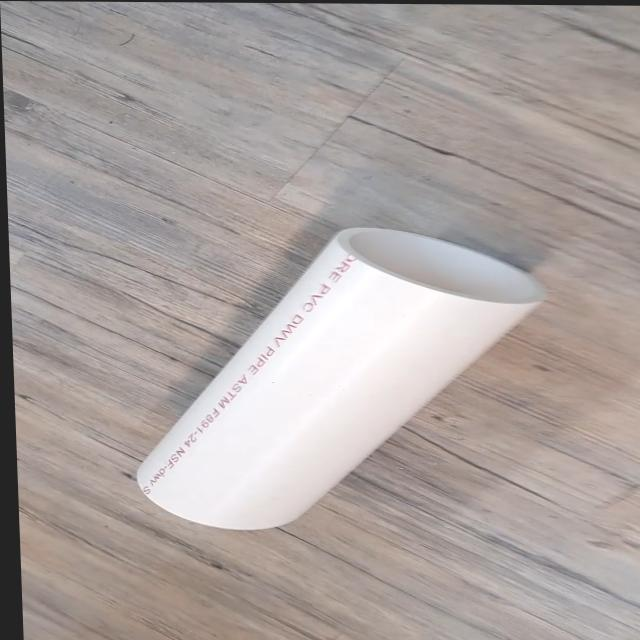CORAL: (115, 221, 556, 534)
